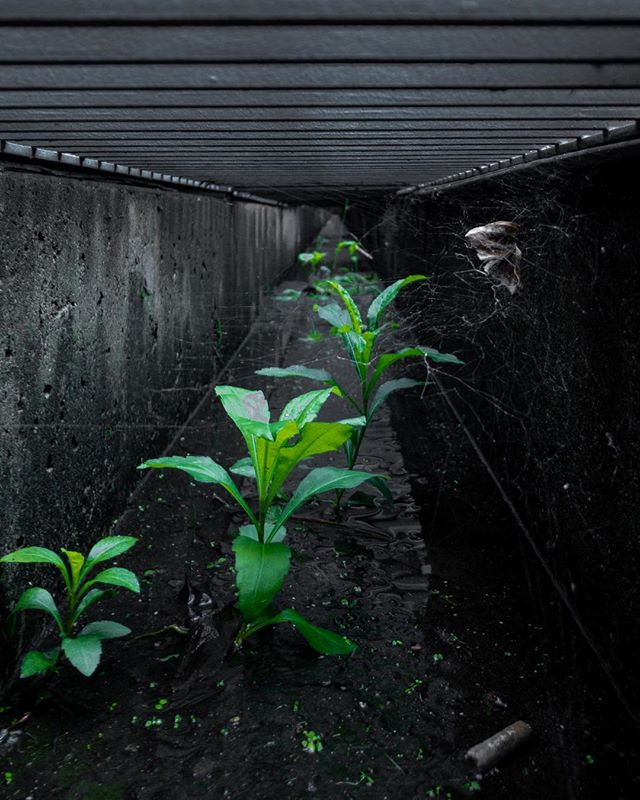vegetation: (48, 261, 455, 707)
